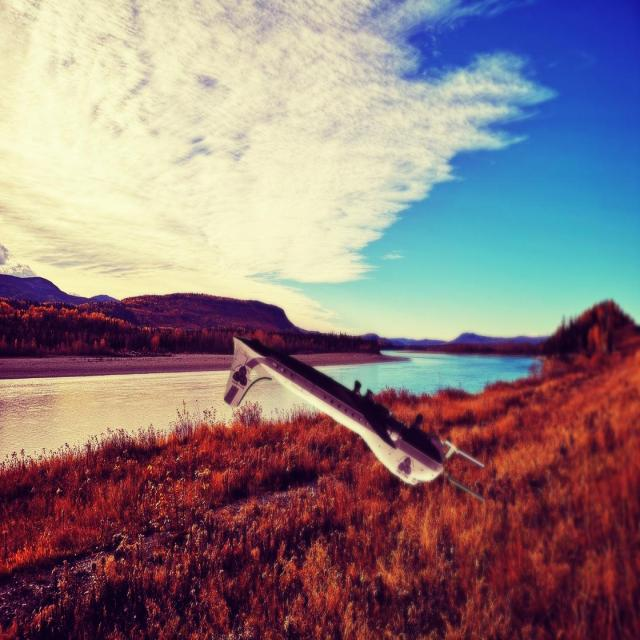airplane: (223, 334, 485, 503)
